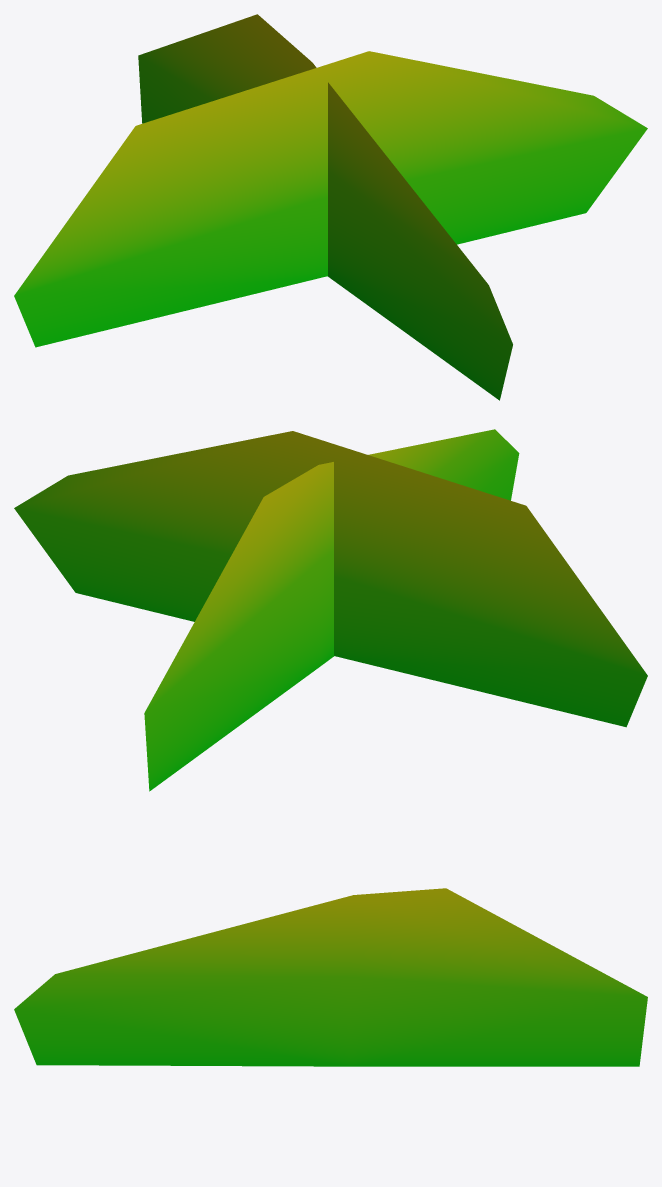
Rendered from Lingonberry_LOD5_Var1.fbx.
3 views of the same model, one above another, from view 1: azimuth 30°, elevation 25°; view 2: azimuth 150°, elevation 25°; view 3: azimuth 270°, elevation 25° (orthographic). The views are drawn at different scales.
Parts seen in each view (by area): view 1: _1gjr_Var1_LOD5; view 2: _1gjr_Var1_LOD5; view 3: _1gjr_Var1_LOD5.
Boxes of the visible parts, <box> form: _1gjr_Var1_LOD5: <box>14,14,647,400</box>; _1gjr_Var1_LOD5: <box>14,429,647,791</box>; _1gjr_Var1_LOD5: <box>14,888,647,1066</box>.
Size of the model in its own units: 81.43 by 26.46 by 83.42.
